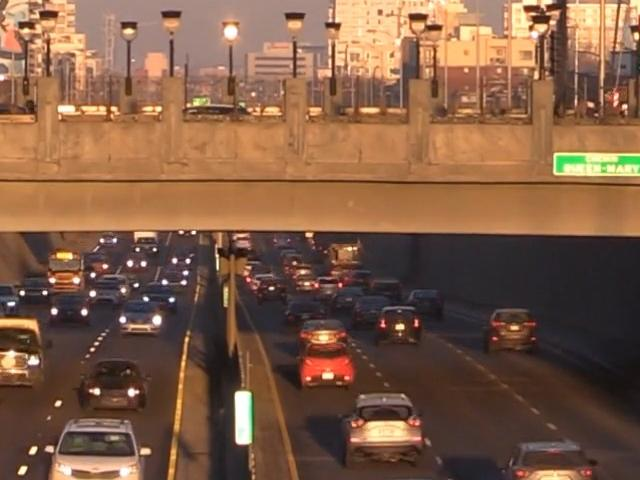car: (43, 416, 149, 480), (341, 392, 429, 468), (76, 360, 154, 412), (511, 436, 601, 480), (0, 312, 51, 387), (294, 340, 359, 390), (481, 308, 540, 355), (377, 306, 428, 350), (115, 294, 164, 338), (49, 290, 93, 329), (298, 319, 354, 347)
